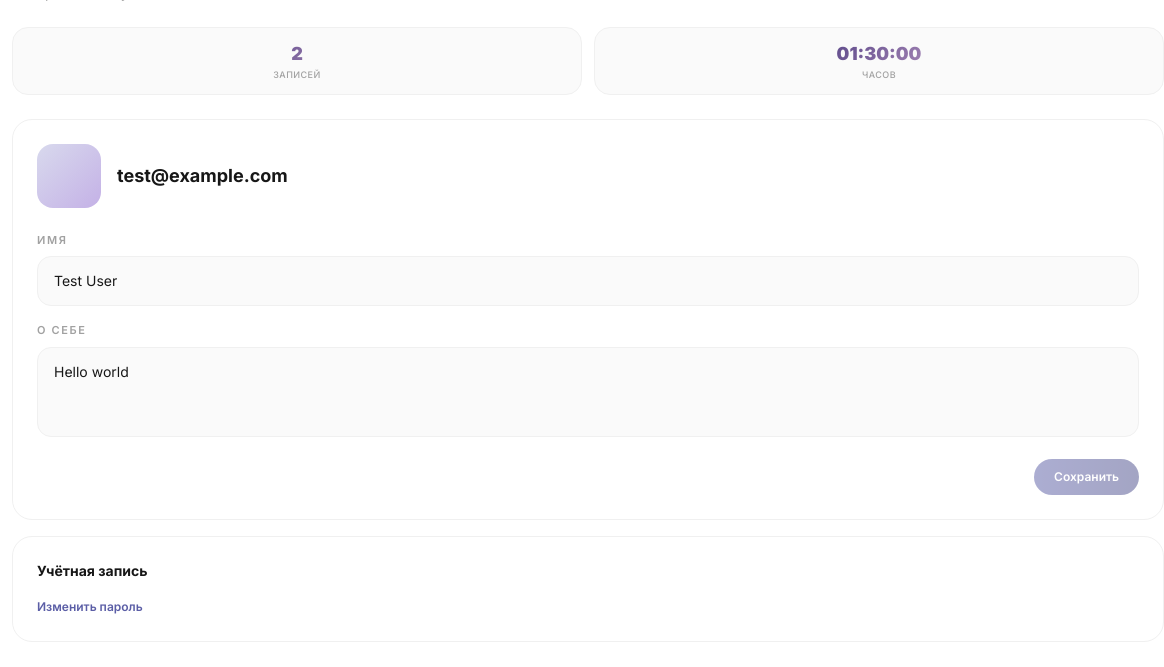
Test case: ProfilePage › reveals password form when Изменить пароль is clicked
The image size is (1164, 667).
Click the button "Изменить пароль" at x=90, y=606, box [37, 598, 143, 614]
(page scrolled)
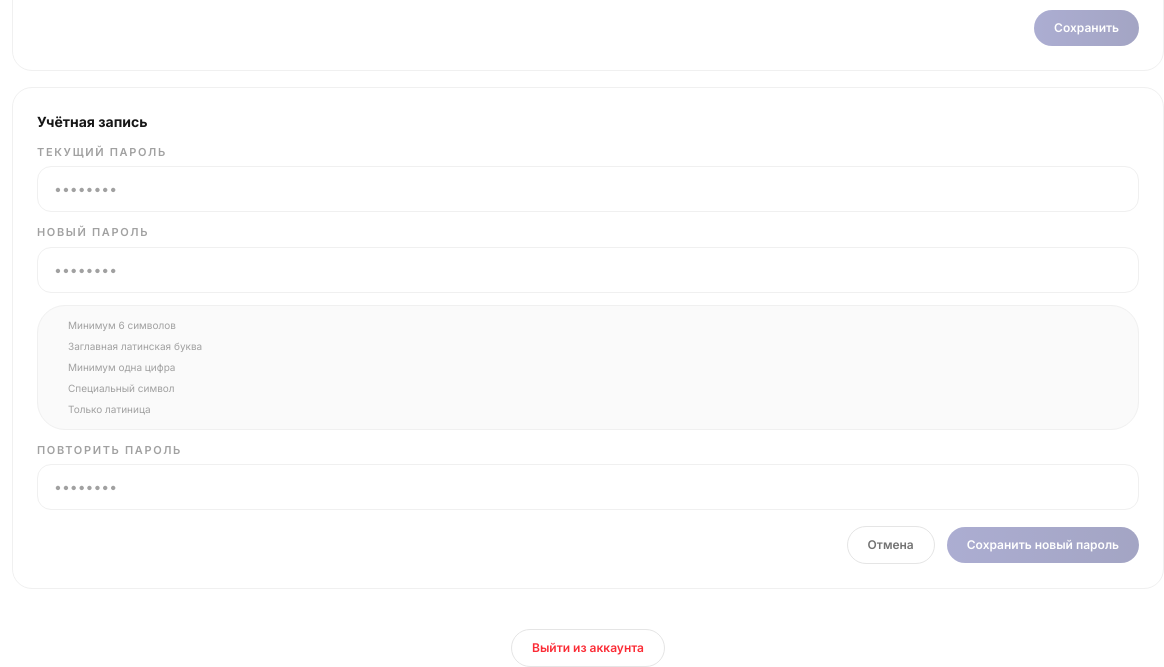
Check: the number of password fields with placeholder "••••••••" is 3, box [37, 166, 1139, 212]; [37, 246, 1139, 292]; [37, 464, 1139, 510]
Check: the button "Сохранить новый пароль" is shown, box [947, 527, 1139, 563]
Check: the button "Отмена" is shown, box [847, 526, 935, 564]
